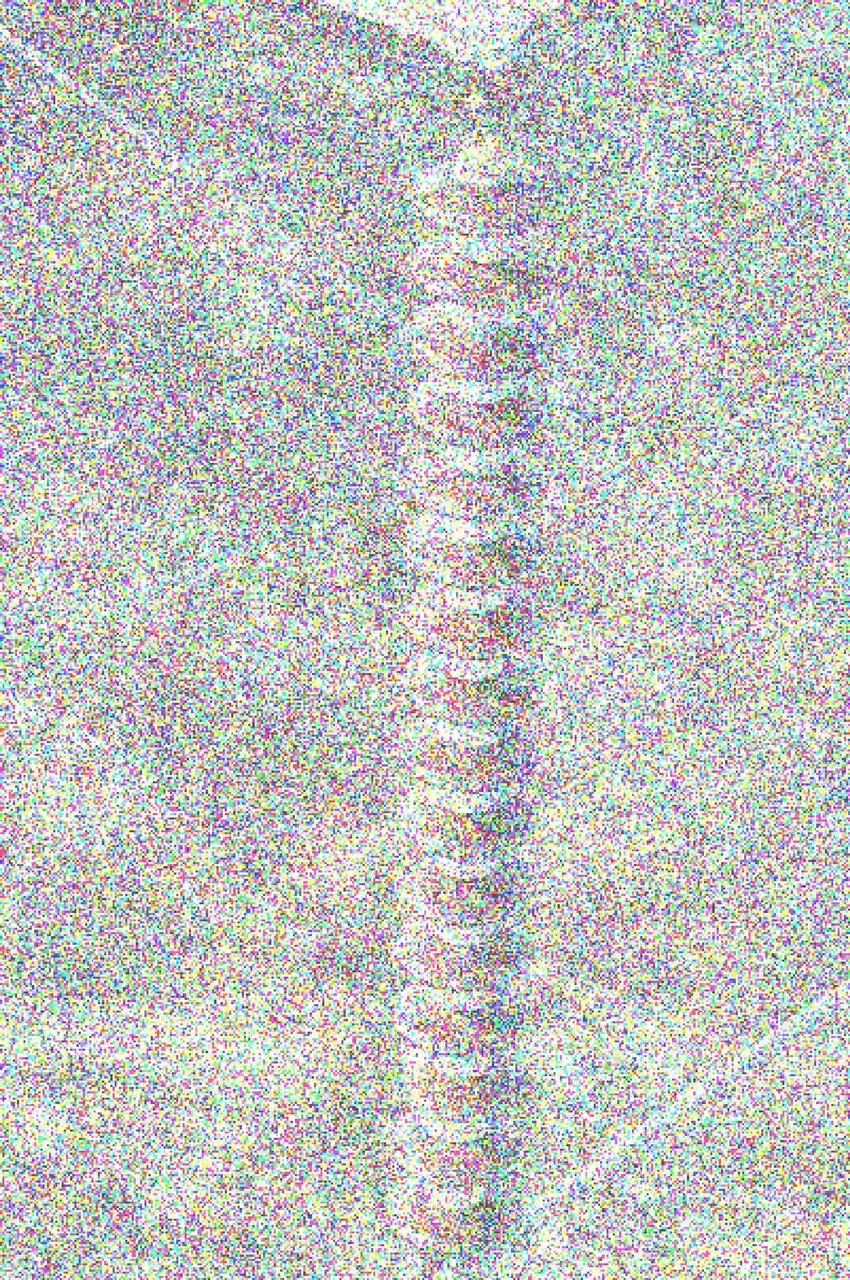Broken: (403, 443, 553, 523), (387, 1050, 534, 1125), (382, 857, 542, 923)
No issues: (411, 130, 560, 237), (407, 300, 556, 384), (393, 712, 543, 789), (386, 914, 536, 991), (402, 511, 551, 588), (397, 583, 546, 660), (380, 1174, 529, 1251), (396, 649, 541, 726), (411, 232, 556, 306), (389, 786, 542, 856), (385, 976, 536, 1046), (405, 374, 556, 443), (384, 1116, 529, 1185)
String: (355, 110, 567, 1280)
